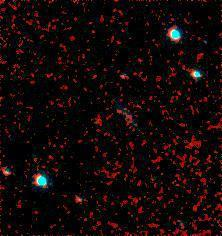star: (103, 95, 133, 125)
